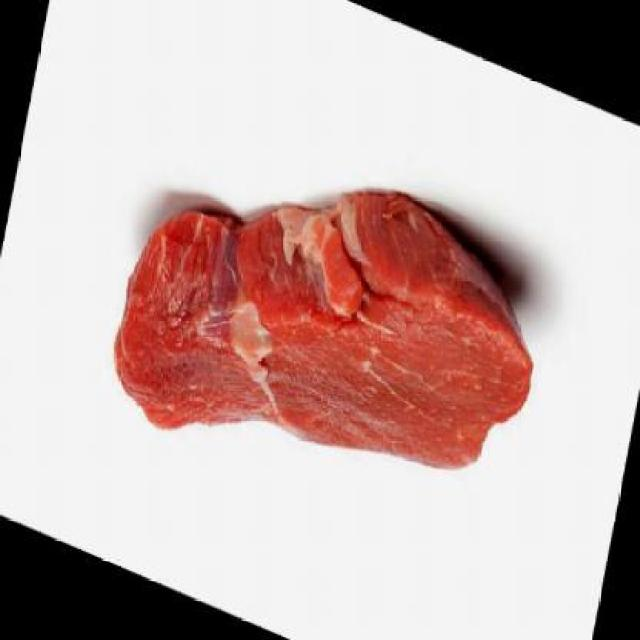beef: (100, 87, 555, 573)
